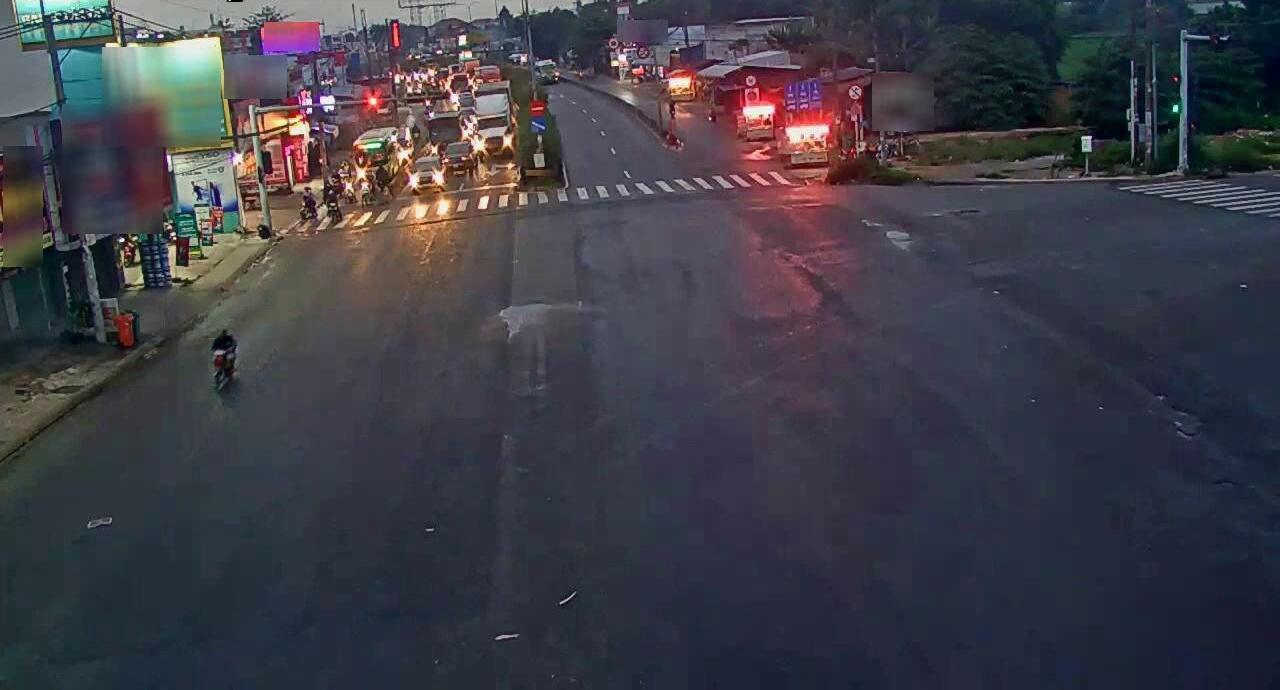xe may: (210, 323, 244, 387)
